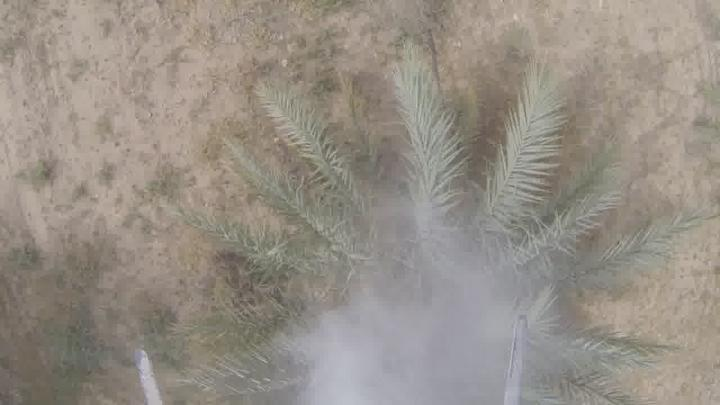Date-Palm-Crown: (290, 126, 575, 405)
